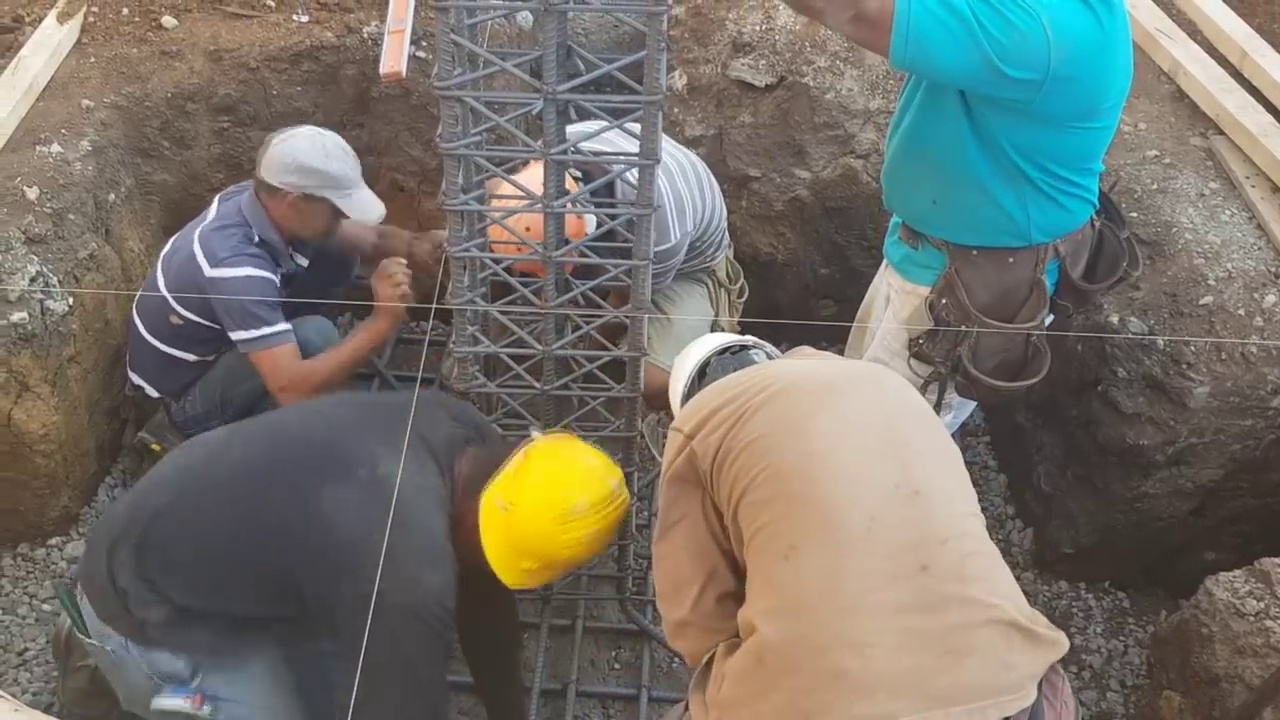helmet: (478, 436, 627, 596), (488, 165, 586, 270), (667, 336, 780, 415)
helmet-off: (246, 123, 378, 257)
helmet-on: (441, 425, 632, 608), (487, 147, 618, 273), (666, 329, 788, 425)
person: (71, 382, 630, 719), (633, 335, 1104, 720), (788, 0, 1136, 432), (120, 121, 450, 432), (477, 117, 743, 410)
